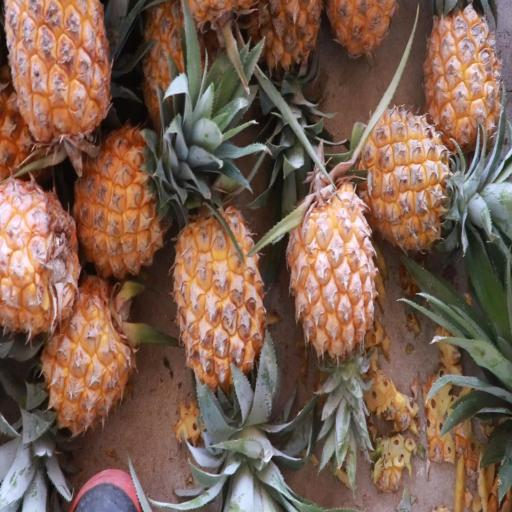Pineapple - v8 v1: (286, 160, 384, 364), (172, 204, 270, 407), (35, 269, 139, 439), (2, 0, 113, 155), (356, 103, 462, 260), (73, 118, 167, 284), (0, 170, 82, 336), (422, 2, 503, 162)
